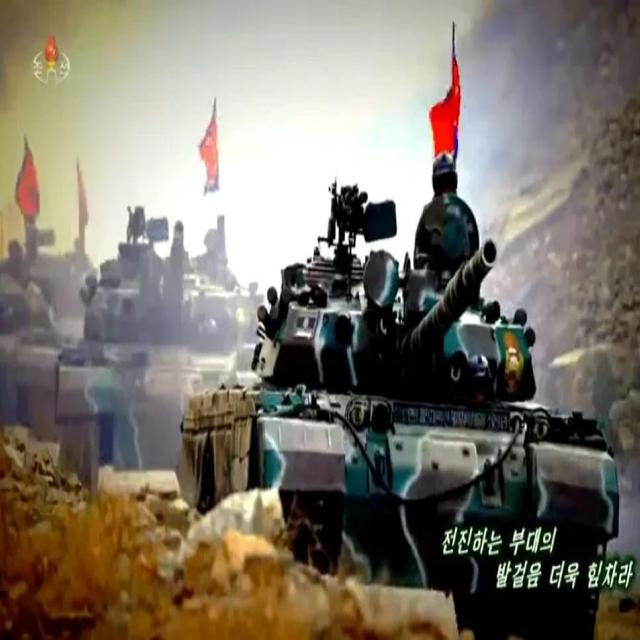north tank: (194, 185, 640, 640), (42, 211, 285, 524)
